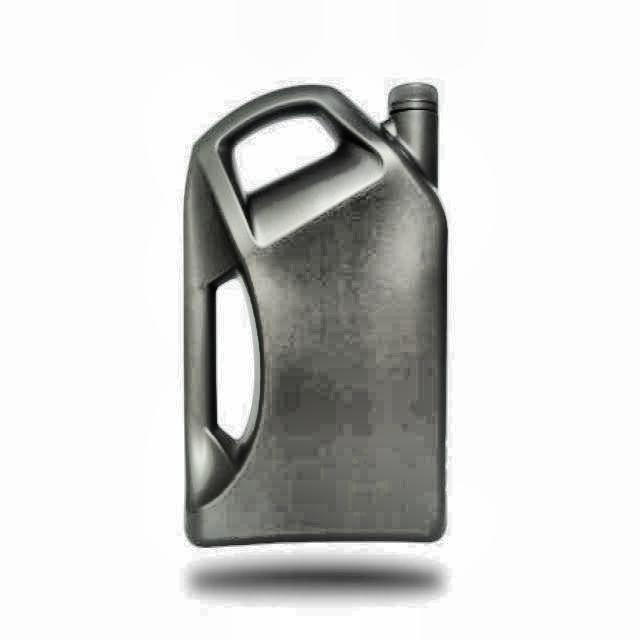plastic: (181, 83, 450, 550)
